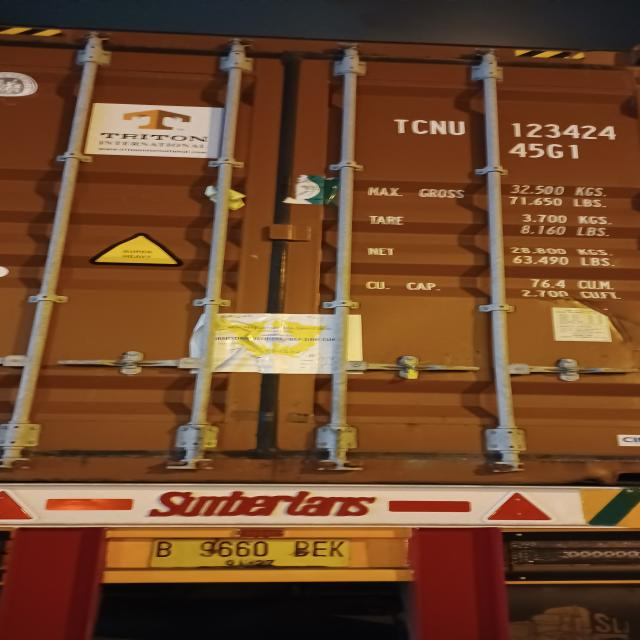seal: (391, 357, 427, 382)
